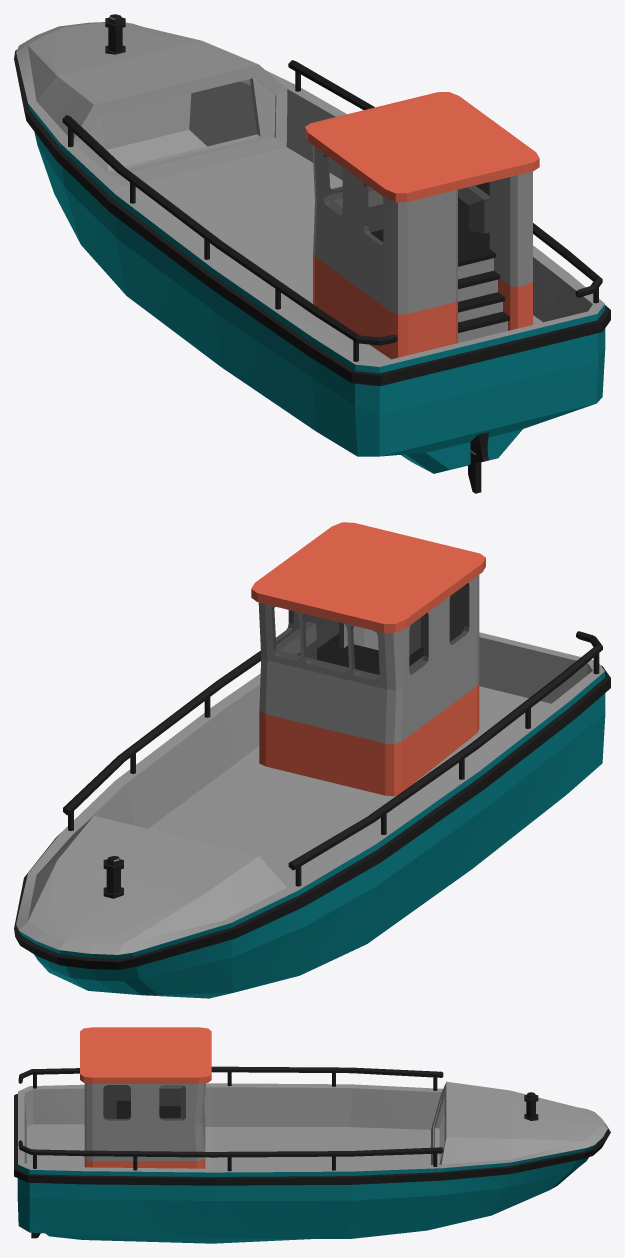
Rendered from fisher_5.FBX.
3 renders of one model, top to bottom at view 1: azimuth 30°, elevation 25°; view 2: azimuth 150°, elevation 25°; view 3: azimuth 270°, elevation 25°, orthographic. The views are drawn at different scales.
Parts seen in each view (by area): view 1: fisher_5; view 2: fisher_5; view 3: fisher_5.
Part boxes in pixels (left/top/right/bottom): fisher_5: left=14, top=14, right=610, bottom=493; fisher_5: left=14, top=522, right=610, bottom=998; fisher_5: left=14, top=1027, right=610, bottom=1243.
Bounding box in the file's own units: 128 × 125 × 347.
